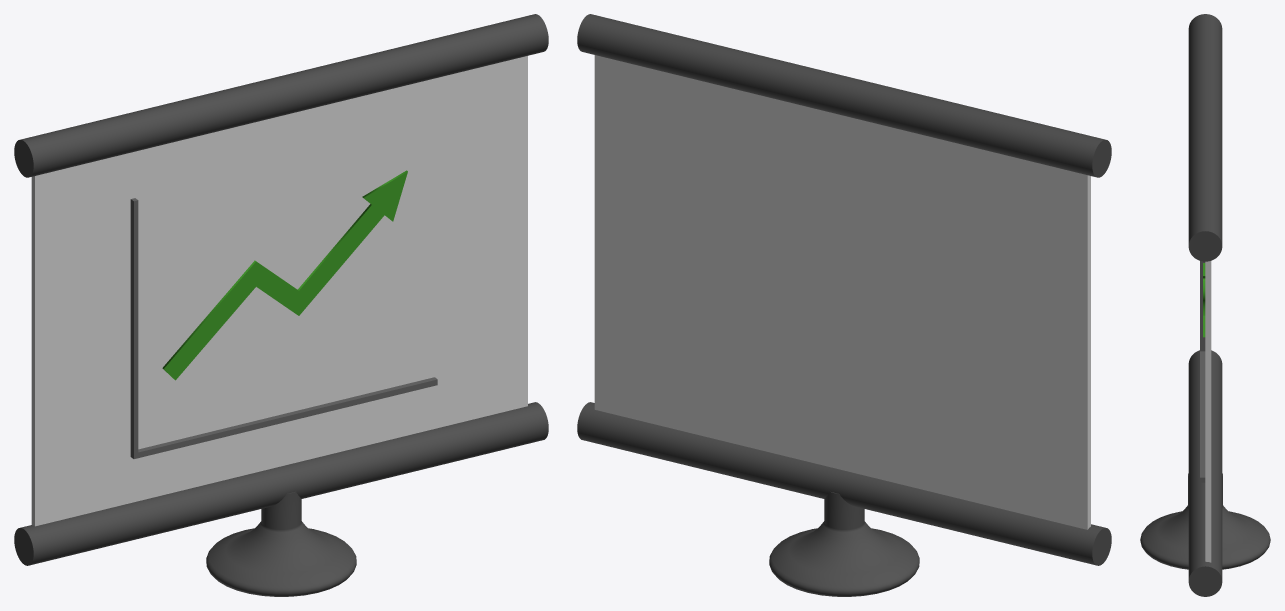
File: chart.gltf
3 views of the same model, side by side, from view 1: azimuth 30°, elevation 25°; view 2: azimuth 150°, elevation 25°; view 3: azimuth 270°, elevation 25° (orthographic). The views are drawn at different scales.
Visible parts, largest first — view 1: Plane_3, Iron.002_2, Chart.001_4, Line_1; view 2: Plane_3, Iron.002_2; view 3: Iron.002_2, Plane_3, Line_1, Chart.001_4.
Boxes of the visible parts, left/top/right/bottom form: Plane_3: left=31, top=56, right=527, bottom=526; Iron.002_2: left=14, top=14, right=548, bottom=596; Chart.001_4: left=162, top=170, right=407, bottom=380; Line_1: left=130, top=198, right=437, bottom=458; Plane_3: left=594, top=55, right=1090, bottom=529; Iron.002_2: left=577, top=14, right=1111, bottom=596; Iron.002_2: left=1140, top=14, right=1270, bottom=596; Plane_3: left=1205, top=261, right=1211, bottom=562; Line_1: left=1200, top=261, right=1205, bottom=482; Chart.001_4: left=1203, top=263, right=1205, bottom=337.
Size of the model in its own units: 1 by 0.9091 by 0.2549.
